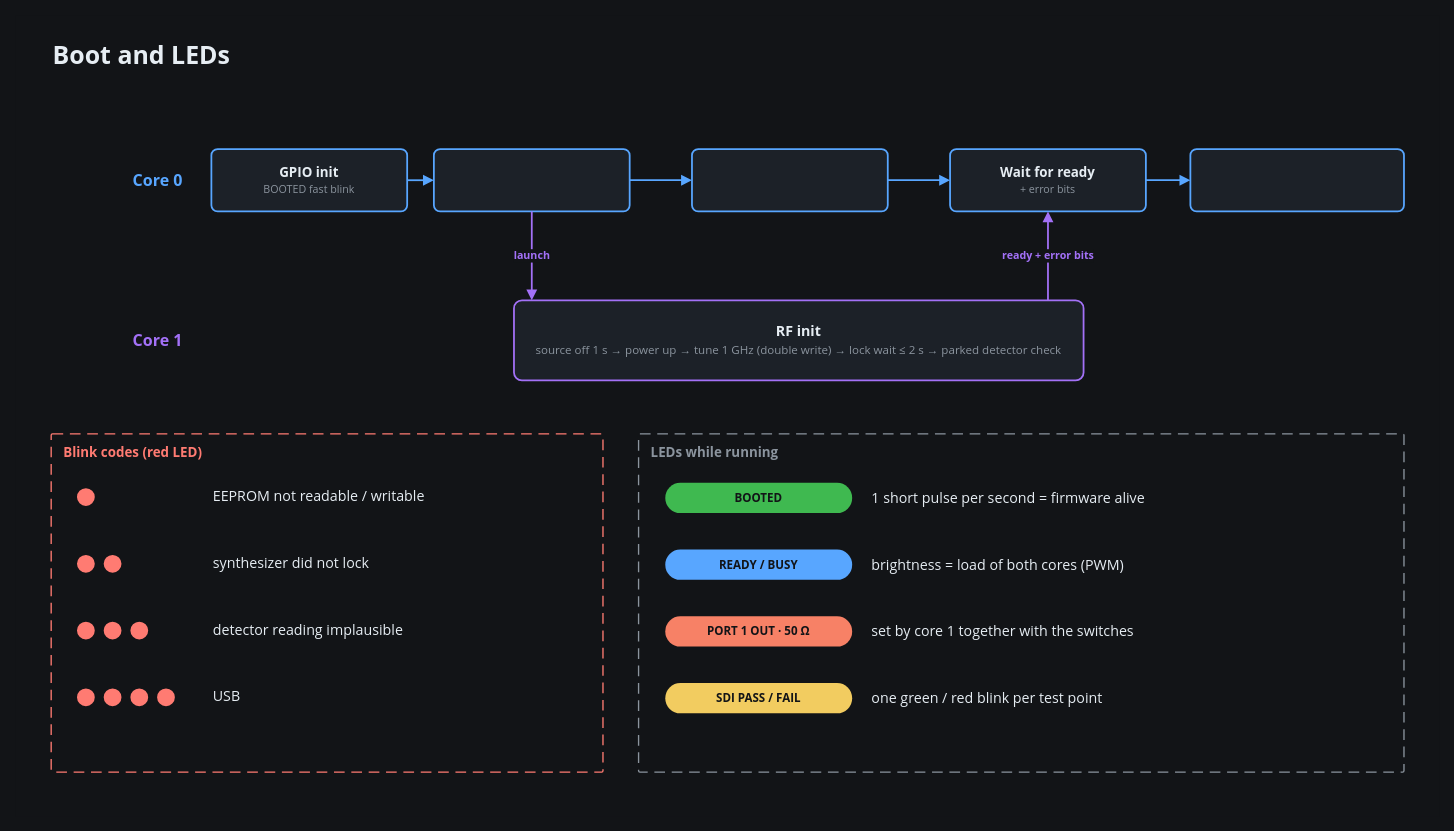
Some shapes in this 1454 by 831 pixel diagram are drawn without their labels. Each missing label, with the centre of its shape:
"EEPROM init USB start" goes at point 789,180.
"Heartbeat or red error code" goes at point 1296,180.
"Launch core 1" goes at point 531,180.
